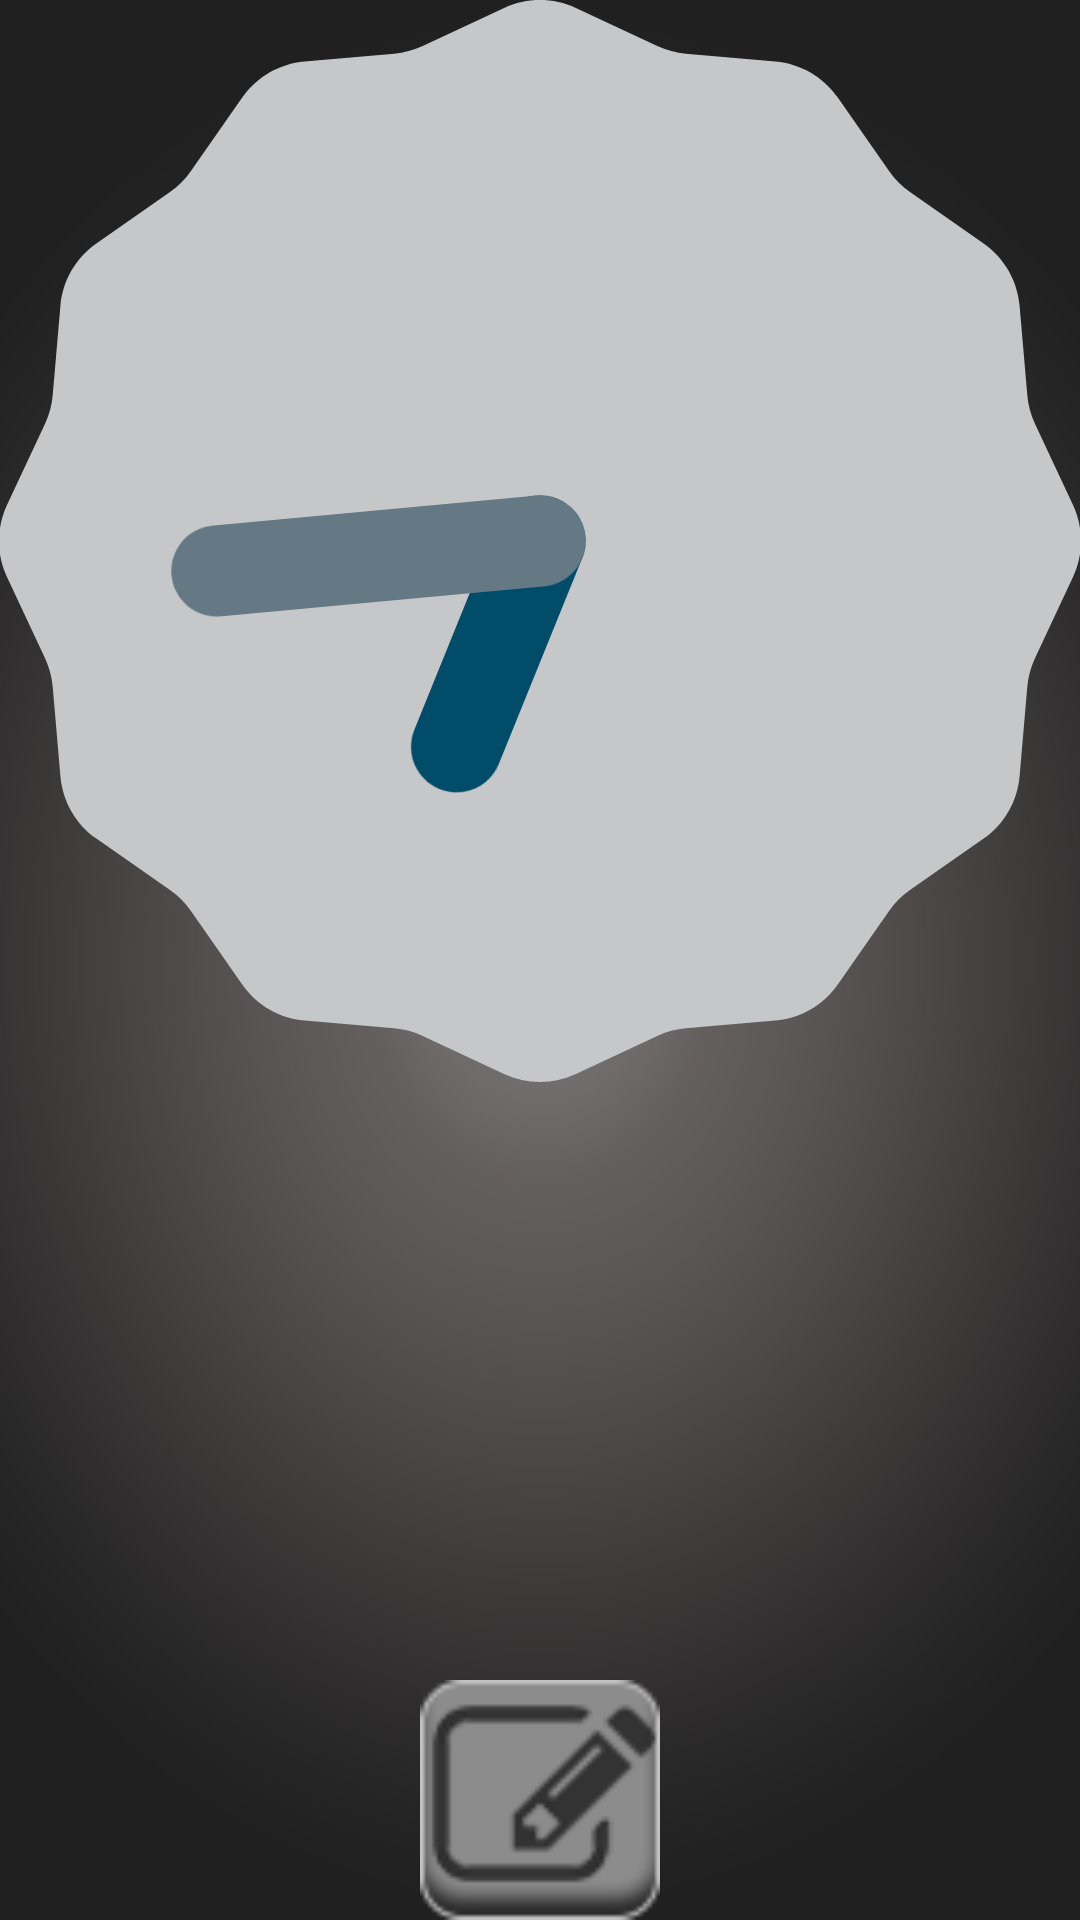

Named icons in this screenshot (1080x1920) and their bounding boxes, (x1, y1, x2, y2):
modify: (420, 1680, 660, 1920)
